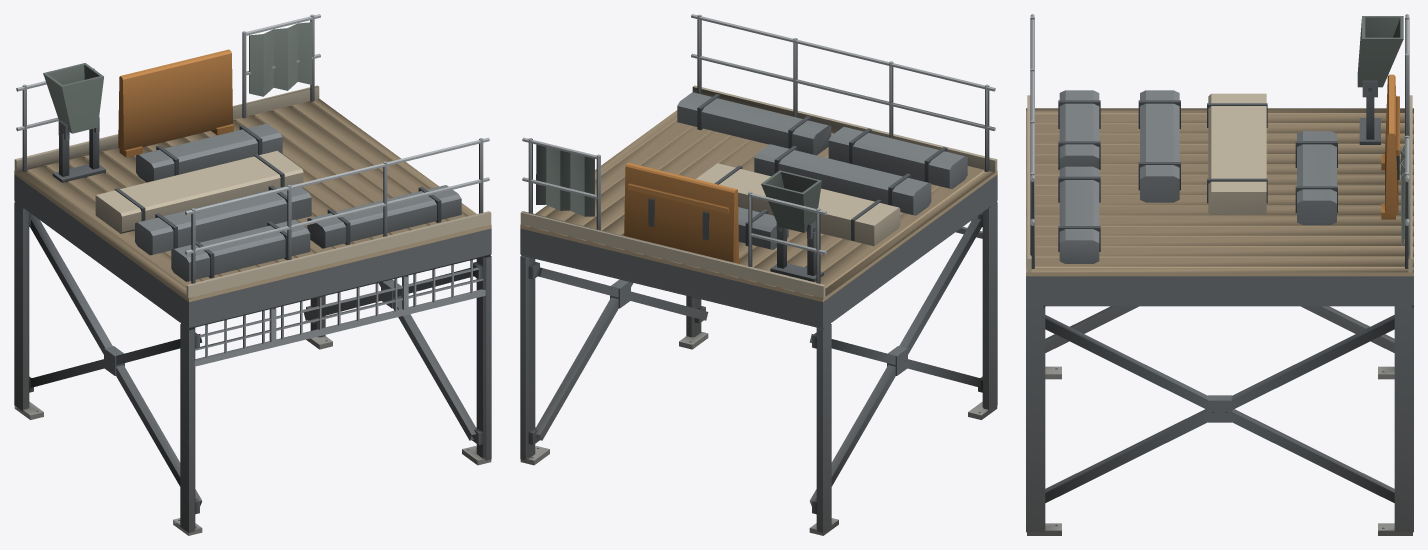
File: gantry.glb
The picture shows the model from 3 angles, left to right: view 1: azimuth 30°, elevation 25°; view 2: azimuth 150°, elevation 25°; view 3: azimuth 270°, elevation 25°; orthographic projection. The views are drawn at different scales.
Visible parts, largest first — view 1: gantry; view 2: gantry; view 3: gantry.
Part boxes in pixels (left/top/right/bottom): gantry: left=14, top=14, right=491, bottom=535; gantry: left=520, top=14, right=997, bottom=535; gantry: left=1026, top=14, right=1413, bottom=535.
Size of the model in its own units: 4 by 4.2 by 4.
